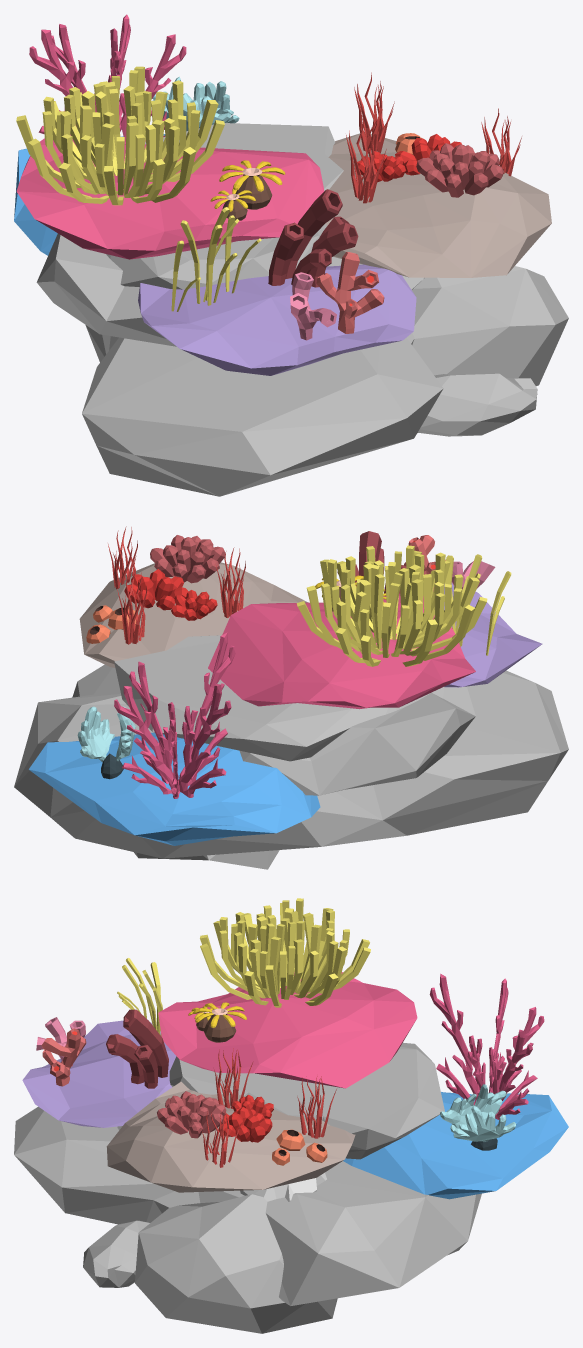
Rendered from Coral_reef_010.glb.
3 views of the same model, one above another, from view 1: azimuth 30°, elevation 25°; view 2: azimuth 150°, elevation 25°; view 3: azimuth 270°, elevation 25° (orthographic). The views are drawn at different scales.
Visible parts, largest first — view 1: Coral_reef_010; view 2: Coral_reef_010; view 3: Coral_reef_010.
Part boxes in pixels (<box>): Coral_reef_010: <box>14,14,568,496</box>; Coral_reef_010: <box>14,526,568,869</box>; Coral_reef_010: <box>14,898,568,1333</box>.
Bounding box in the file's own units: 3.99 × 2.97 × 4.67.
Materials: 1 (1 with a texture image).
